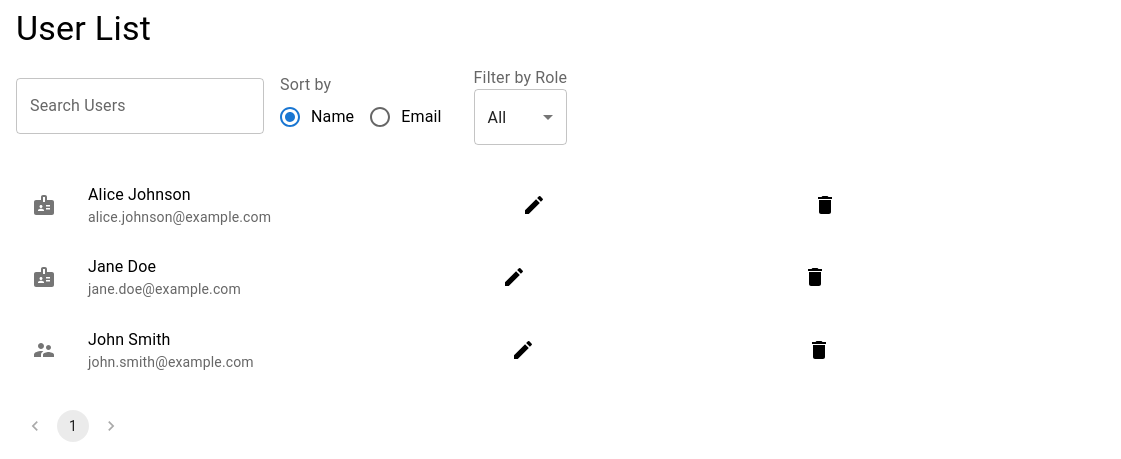
Test: UserEmployeeListMittel Component › shows "no users matching" when no users match filter and search
Step 1. Type "nonexistent" into the field labelled "Search Users" → x=140, y=106, box [16,78,264,134]
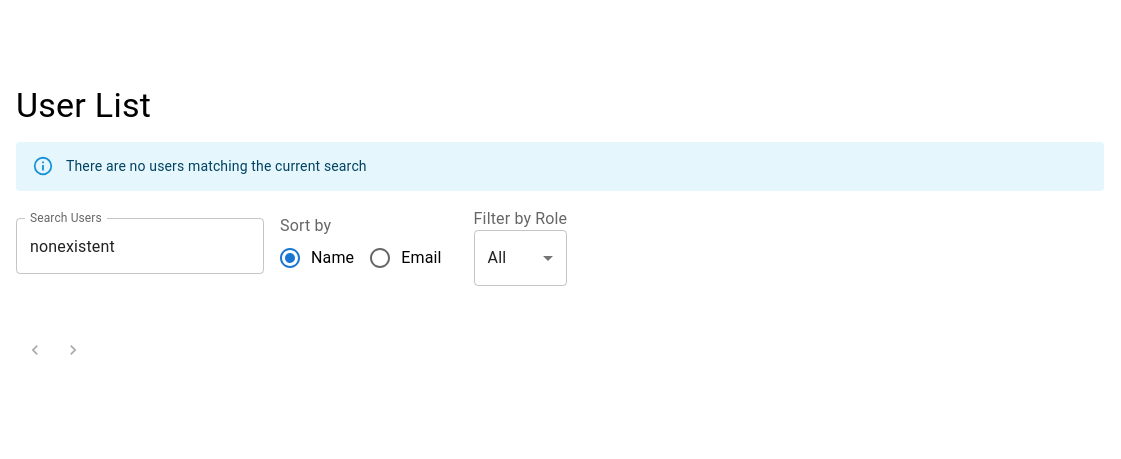
Now the text "There are no users matching the current search" is shown, box [66,158,367,174]
